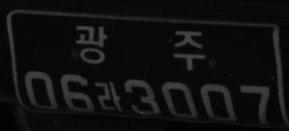0: (161, 80, 200, 119), (200, 81, 237, 121), (23, 69, 58, 111)
3: (124, 78, 161, 116)
6: (59, 72, 96, 113)
7: (238, 83, 271, 126)
광주_D: (75, 22, 206, 71)
라: (96, 79, 122, 113)
